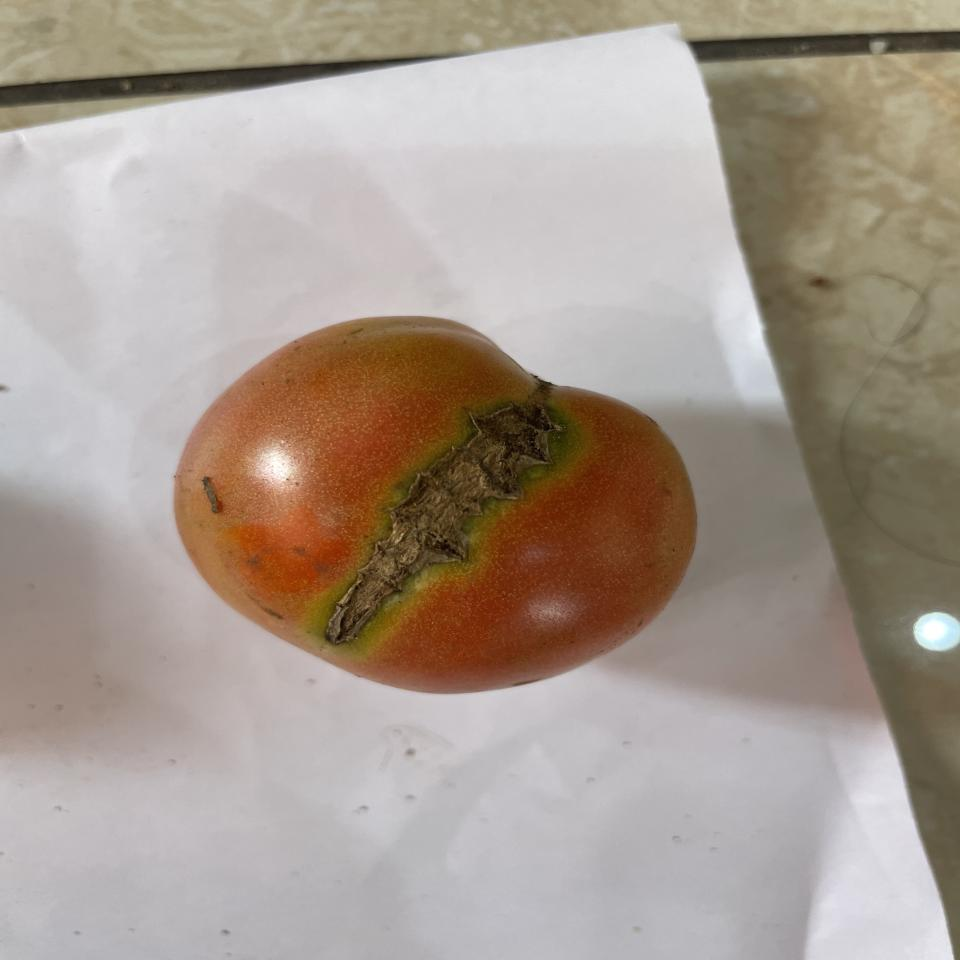Cracking: (304, 384, 585, 656)
